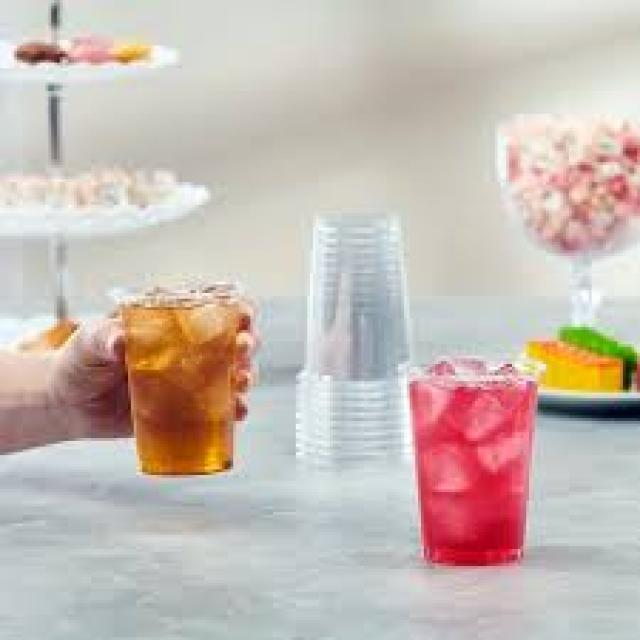bottle: (410, 360, 538, 564), (127, 285, 252, 473), (306, 212, 407, 379)
